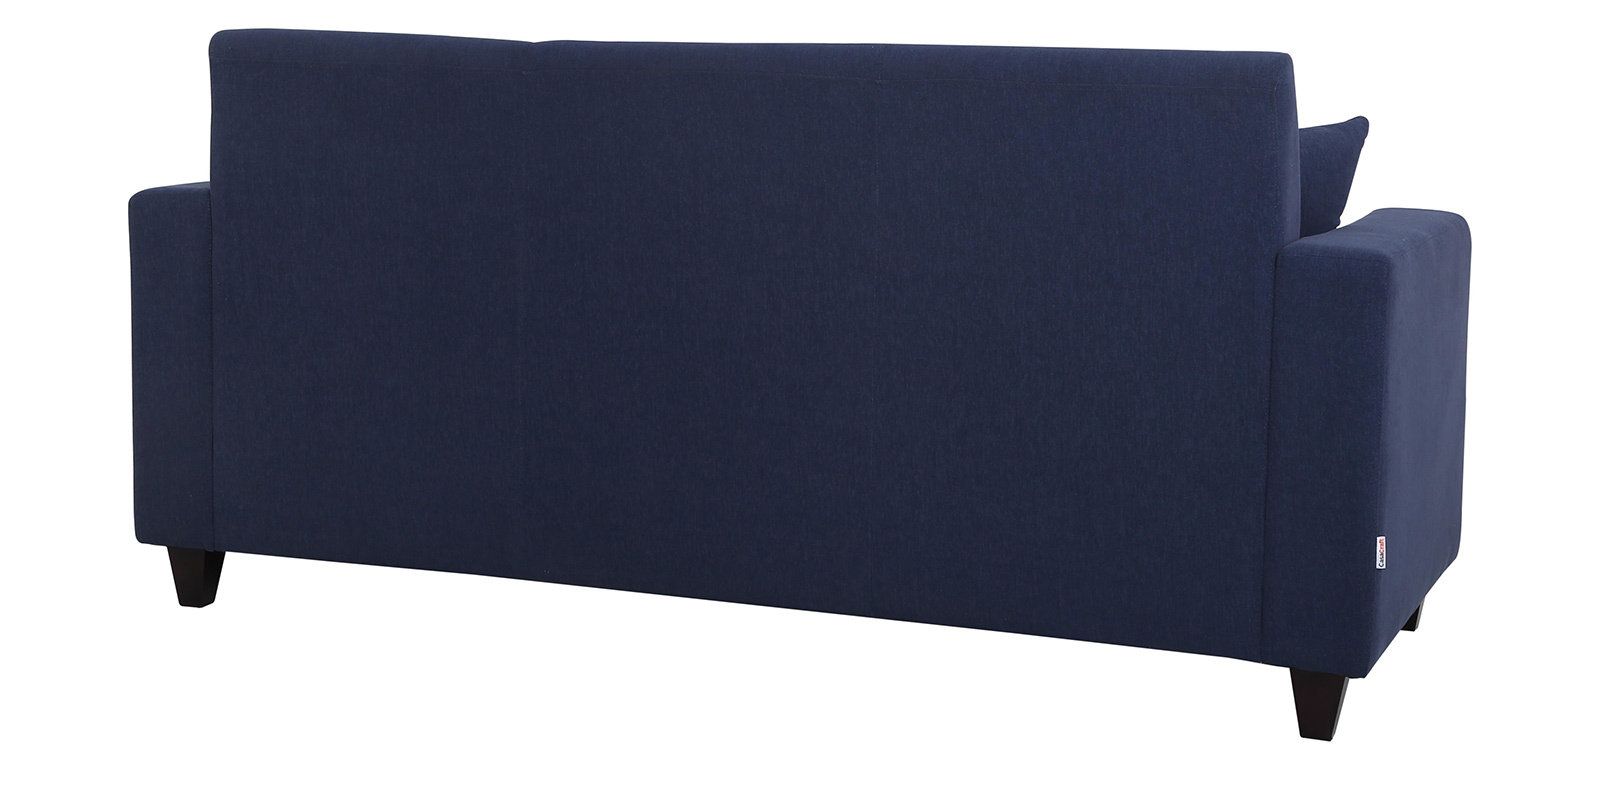Alba Three Seater Sofa in Navy Blue Colour by CasaCraft: (116, 20, 1478, 746)
